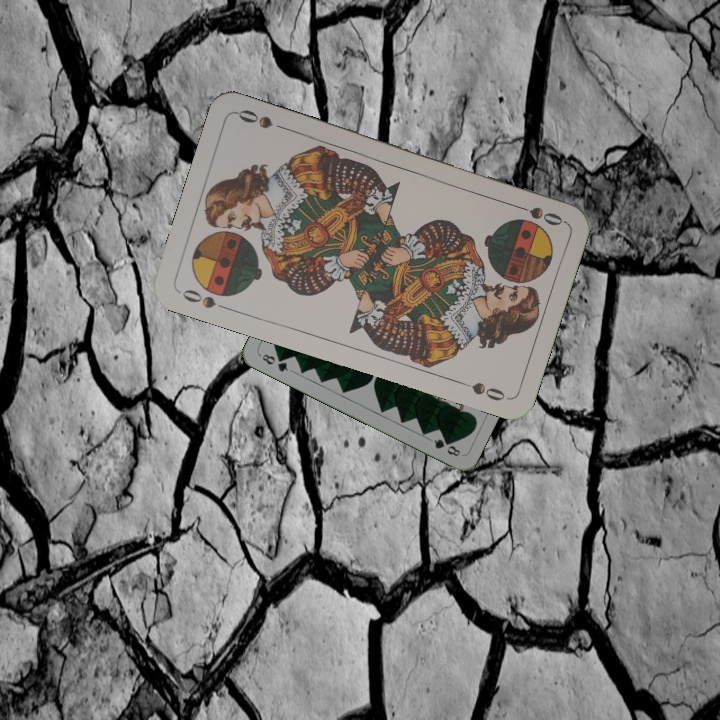G8: (258, 350, 291, 374)
SO: (508, 199, 566, 228), (178, 285, 233, 313)
